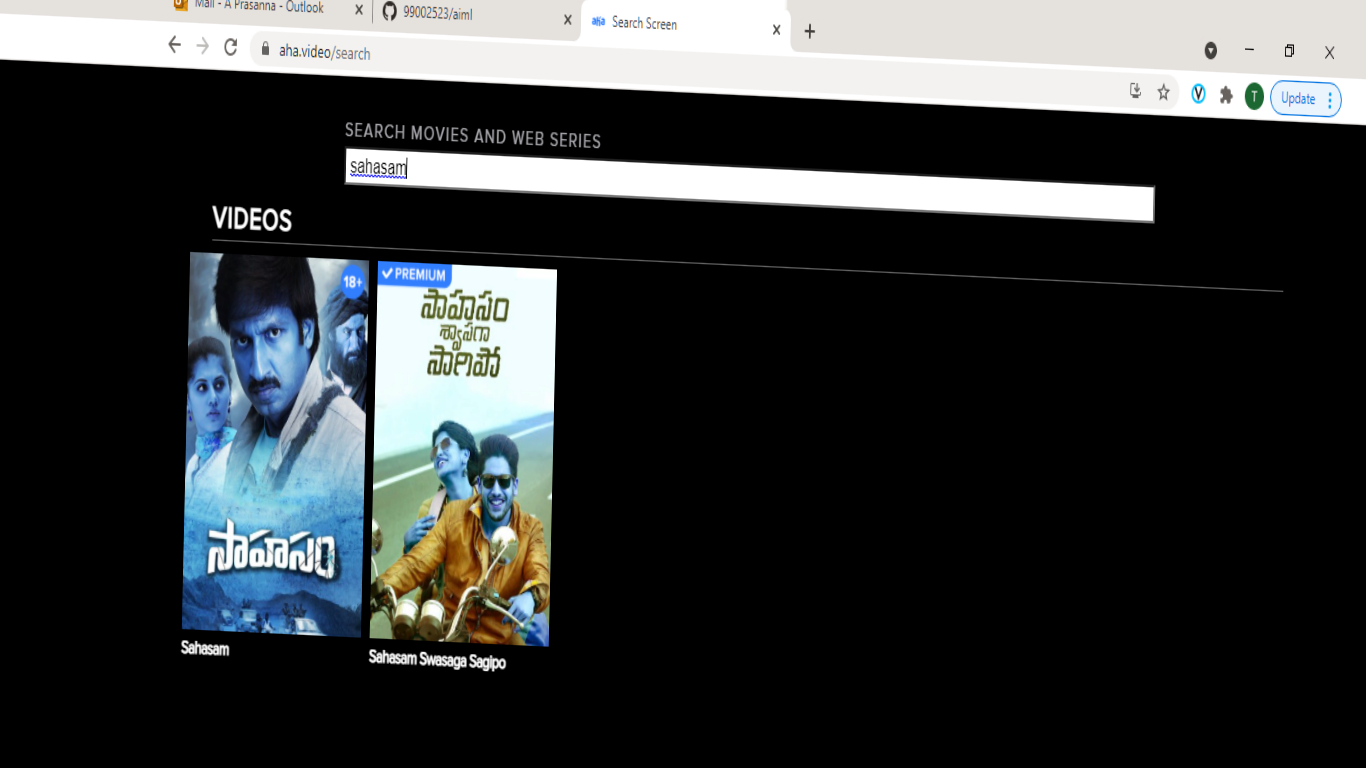resultsfound: (203, 194, 1167, 267)
searchtextbox: (330, 114, 1177, 229)
